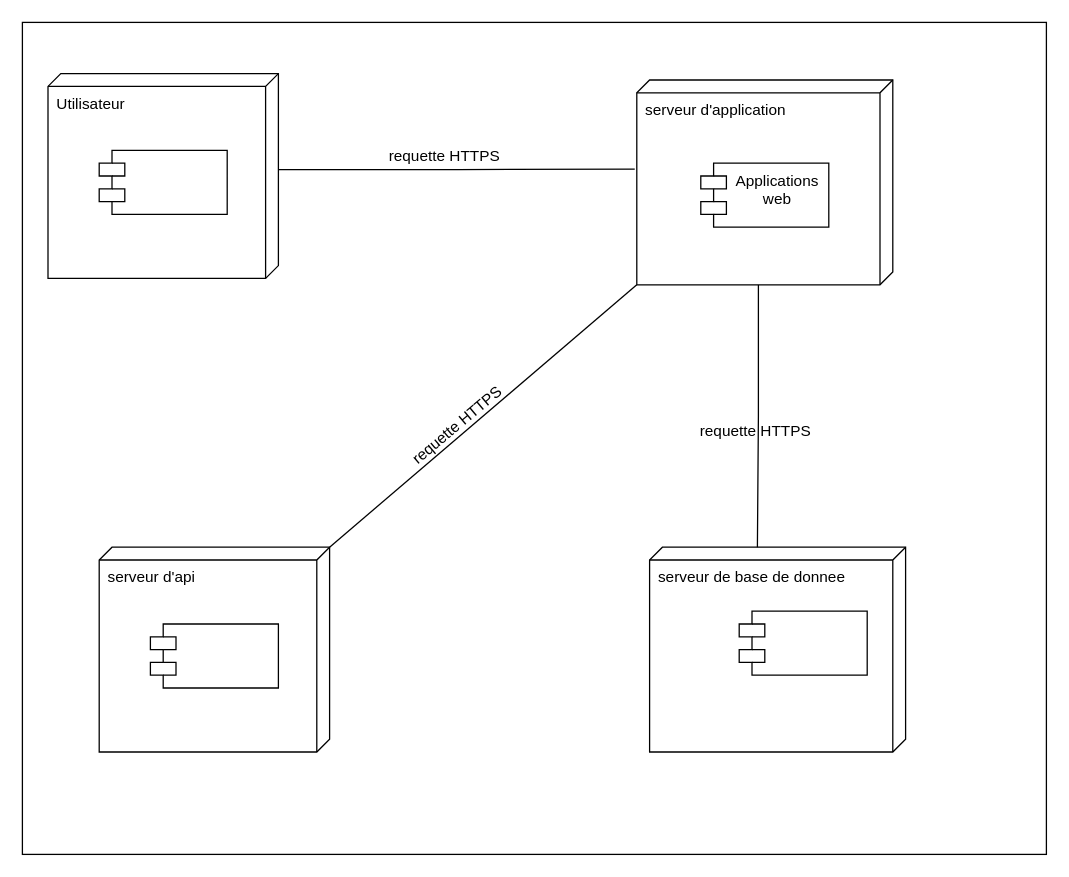
Some shapes in this 1069 by 877 pixel diagram are drawn without their labels. The shapes that lost their labels are listed below. From the top down, each one's centre as x and y in pixels, then its label:
At (162,181): "Navigateur".
At (213,655): "Api de payement".
At (802,642): "Base de donnee".
